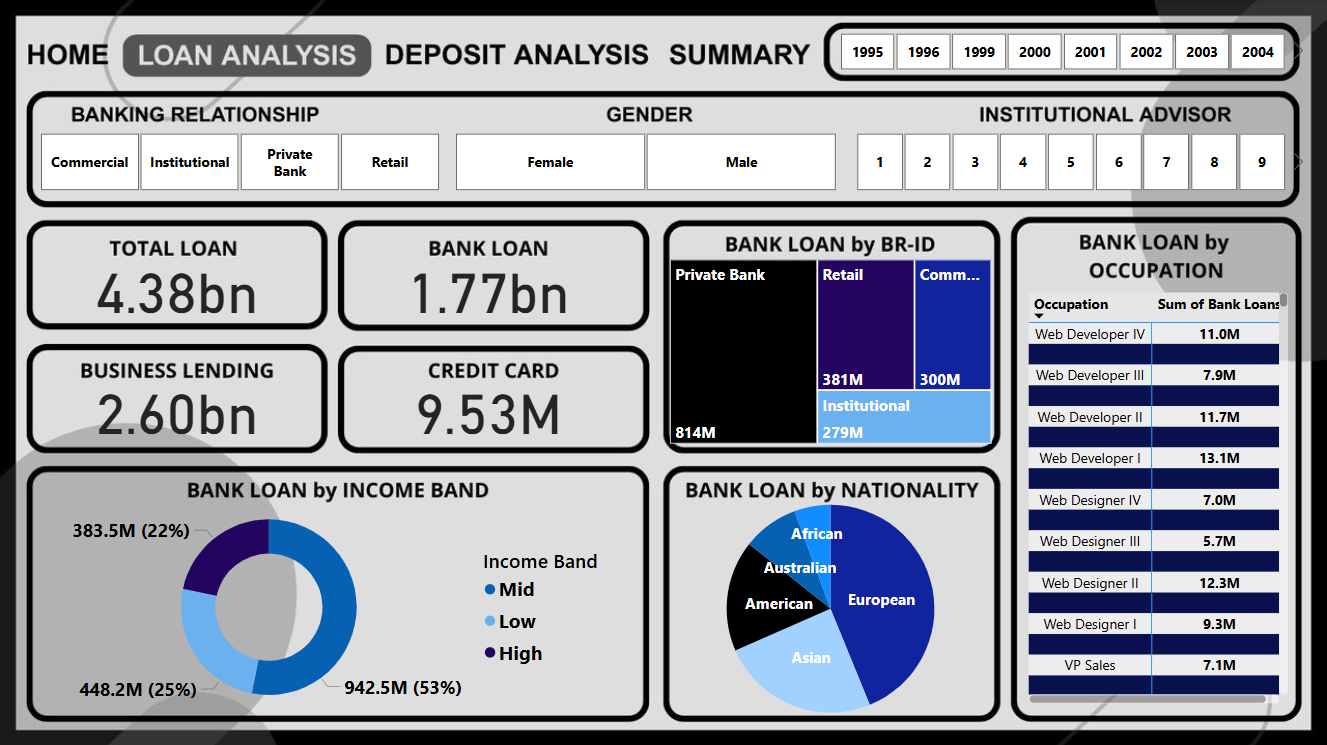

Layout of this report page (visuals, bound fields, positions):
{"tool":"powerbi","page":{"name":"Loan analysis","canvas":[1280,720],"ordinal":1},"visuals":[{"type":"slicer","fields":{"Values":["banking-clients.Year of joining"]},"box":[785.7,25.7,478.6,48.6],"z":0},{"type":"actionButton","box":[15.7,34.3,97.1,40],"z":1000},{"type":"actionButton","box":[640,30,145.7,40],"z":2000},{"type":"actionButton","box":[365.7,30,274.3,40],"z":3000},{"type":"card","fields":{"Values":["banking-clients.Total Loan"]},"box":[30,211.4,281.4,130],"z":4000},{"type":"card","fields":{"Values":["Sum(banking-clients.Bank Loans)"]},"box":[330,211.4,281.4,130],"z":5000},{"type":"card","fields":{"Values":["Sum(banking-clients.Business Lending)"]},"box":[30,328.6,281.4,130],"z":6000},{"type":"card","fields":{"Values":["Sum(banking-clients.Credit Card Balance)"]},"box":[330,328.6,281.4,130],"z":7000},{"type":"donutChart","fields":{"Category":["banking-clients.Income Band"],"Y":["Sum(banking-clients.Bank Loans)"]},"box":[48.6,470,562.9,231.4],"z":8000},{"type":"treemap","fields":{"Group":["banking-clients.BRId"],"Values":["Sum(banking-clients.Bank Loans)"]},"box":[640,250,324.3,185.7],"z":9000},{"type":"pieChart","fields":{"Y":["Sum(banking-clients.Bank Loans)"],"Category":["banking-clients.Nationality"]},"box":[447.1,454.3,708.6,265.7],"z":10000},{"type":"pivotTable","fields":{"Rows":["banking-clients.Occupation"],"Values":["Sum(banking-clients.Bank Loans)"]},"box":[988.1,277.5,260.6,406.6],"z":11000},{"type":"slicer","fields":{"Values":["banking-clients.BRId"]},"box":[12.9,121.4,434.3,68.6],"z":12000},{"type":"slicer","fields":{"Values":["banking-clients.GenderId"]},"box":[414.3,121.4,417.1,68.6],"z":13000},{"type":"slicer","fields":{"Values":["banking-clients.IAId"]},"box":[801.4,121.4,462.9,68.6],"z":14000}]}

Visuals, with their boxes in screenshot pixels (x1, y1, x2, y2), scaled from the page's 1280x720 canvas onto the 1327x745 screenshot:
slicer - banking-clients.Year of joining: bbox=(815, 27, 1311, 77)
actionButton: bbox=(16, 35, 117, 77)
actionButton: bbox=(664, 31, 815, 72)
actionButton: bbox=(379, 31, 664, 72)
card - banking-clients.Total Loan: bbox=(31, 219, 323, 353)
card - Sum(banking-clients.Bank Loans): bbox=(342, 219, 634, 353)
card - Sum(banking-clients.Business Lending): bbox=(31, 340, 323, 475)
card - Sum(banking-clients.Credit Card Balance): bbox=(342, 340, 634, 475)
donutChart - banking-clients.Income Band x Sum(banking-clients.Bank Loans): bbox=(50, 486, 634, 726)
treemap - banking-clients.BRId x Sum(banking-clients.Bank Loans): bbox=(664, 259, 1000, 451)
pieChart - Sum(banking-clients.Bank Loans) x banking-clients.Nationality: bbox=(464, 470, 1198, 744)
pivotTable - banking-clients.Occupation x Sum(banking-clients.Bank Loans): bbox=(1024, 287, 1295, 708)
slicer - banking-clients.BRId: bbox=(13, 126, 464, 197)
slicer - banking-clients.GenderId: bbox=(430, 126, 862, 197)
slicer - banking-clients.IAId: bbox=(831, 126, 1311, 197)
